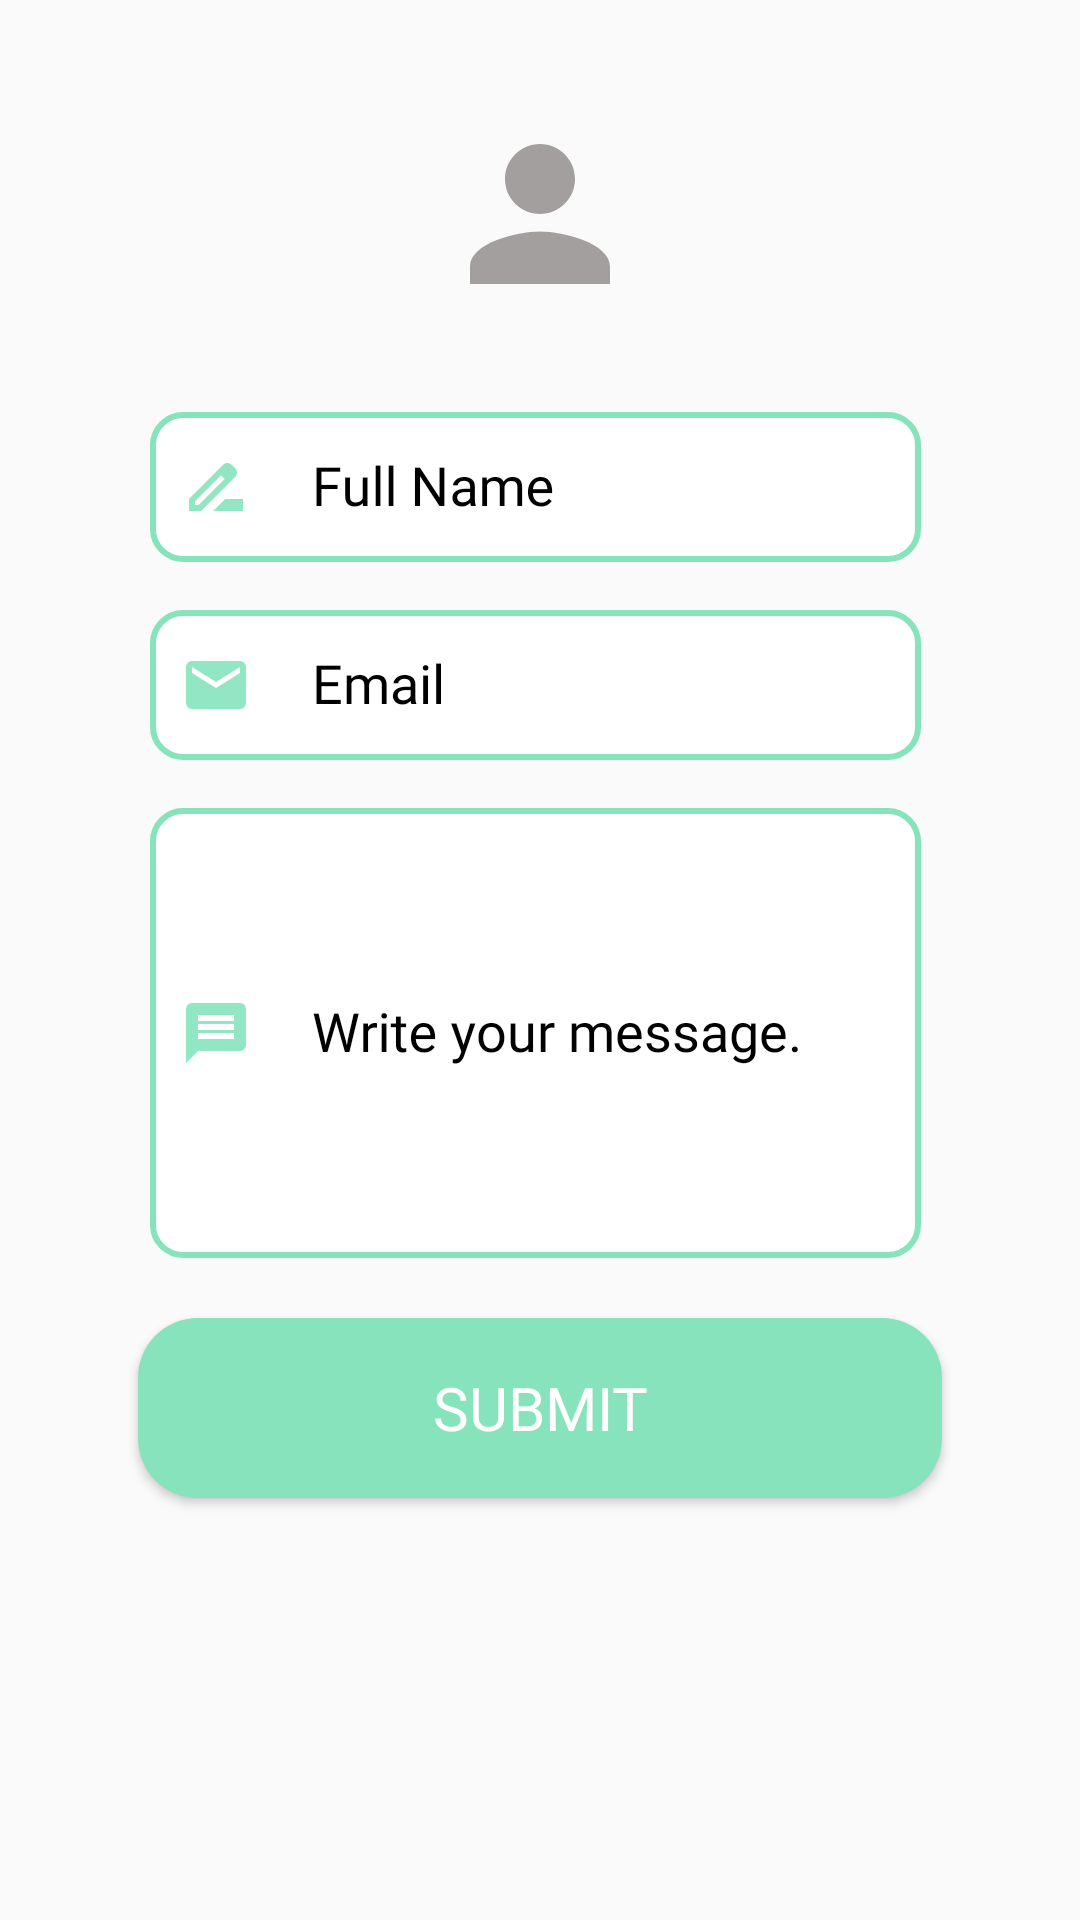

Screen size 1080px x 1920px. Icon name, then its center in pixels as point (x, y):
person: point (540, 214)
